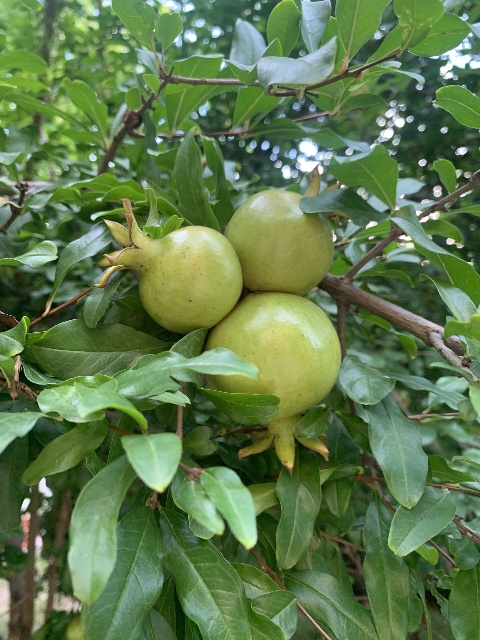mid-growth: (202, 292, 342, 474), (94, 198, 242, 332), (224, 164, 347, 295)
